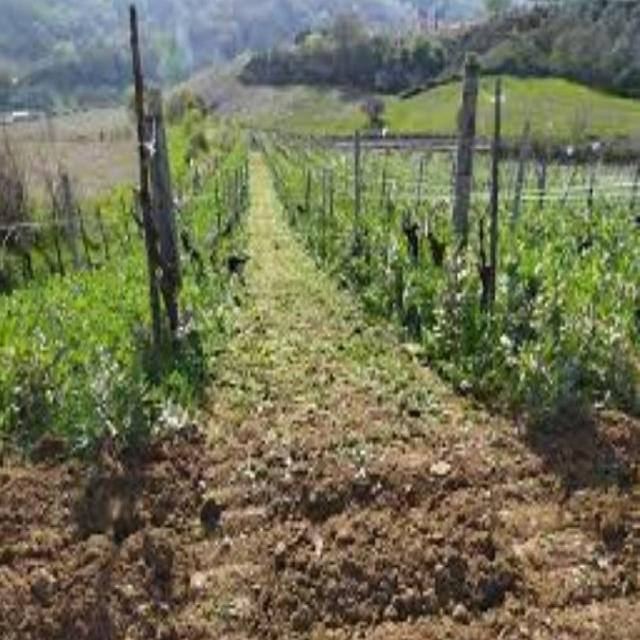row: (176, 150, 513, 494), (0, 129, 252, 422)
